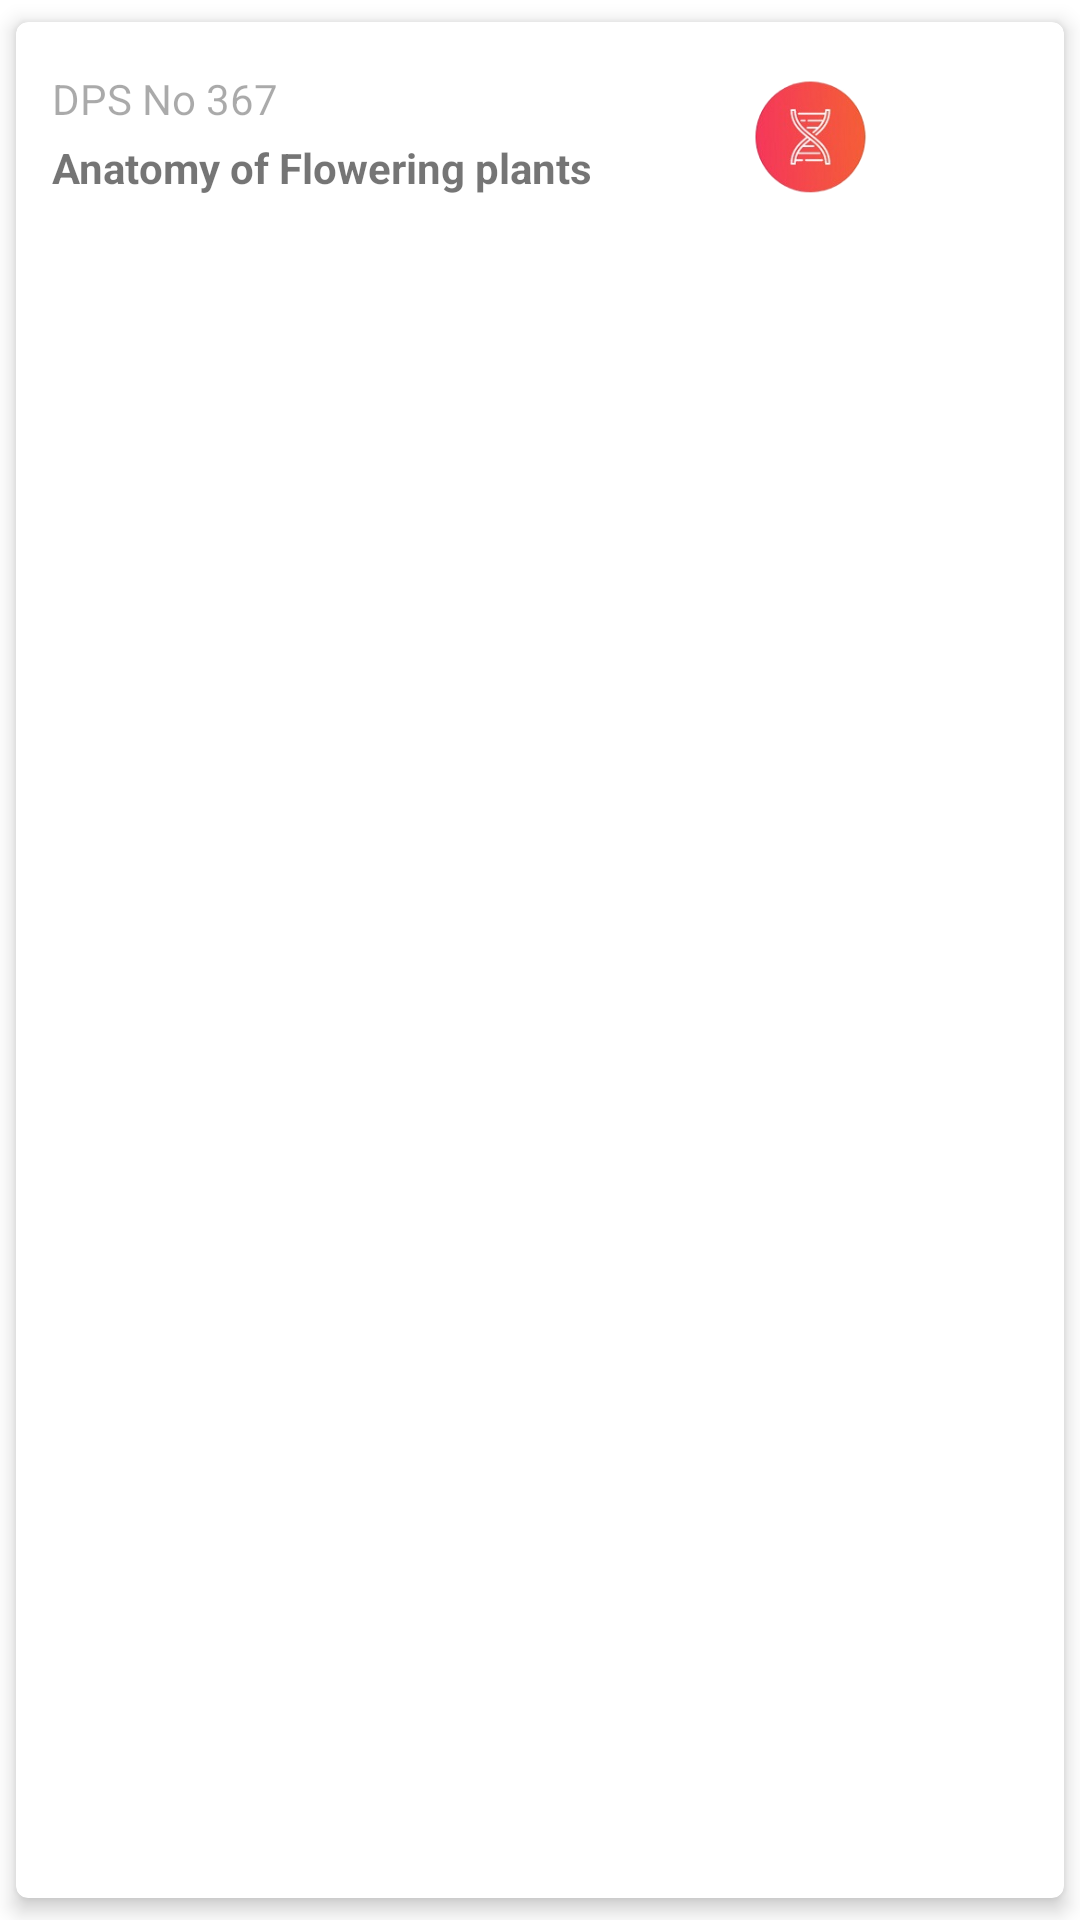

Screen size 1080 × 1920. Icon name, then its center in pixels as point (x, y):
dps biology: point (810, 137)
